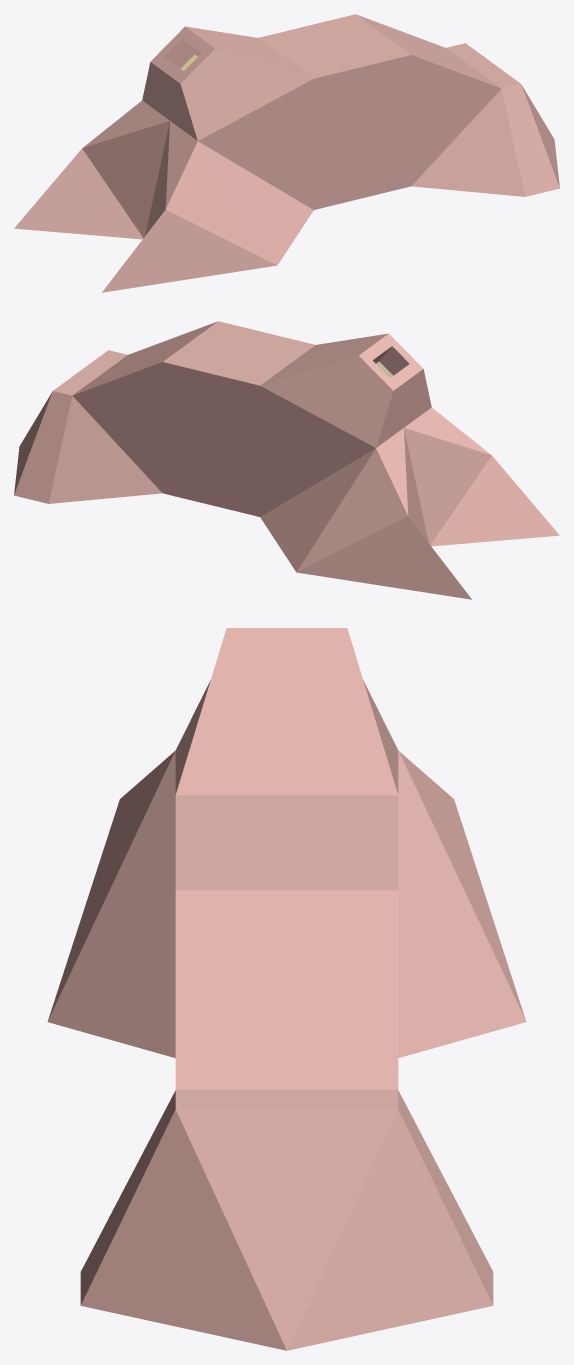
Rendered from cb_foot_2.gltf.
3 renders of one model, top to bottom at view 1: azimuth 30°, elevation 25°; view 2: azimuth 150°, elevation 25°; view 3: azimuth 270°, elevation 25°, orthographic. The views are drawn at different scales.
Parts seen in each view (by area): view 1: Cube.029; view 2: Cube.029; view 3: Cube.029.
Part boxes in pixels (<box>): Cube.029: <box>14,14,559,292</box>; Cube.029: <box>14,321,559,599</box>; Cube.029: <box>47,628,526,1350</box>.
Size of the model in its own units: 4.56 by 1.65 by 1.9.
